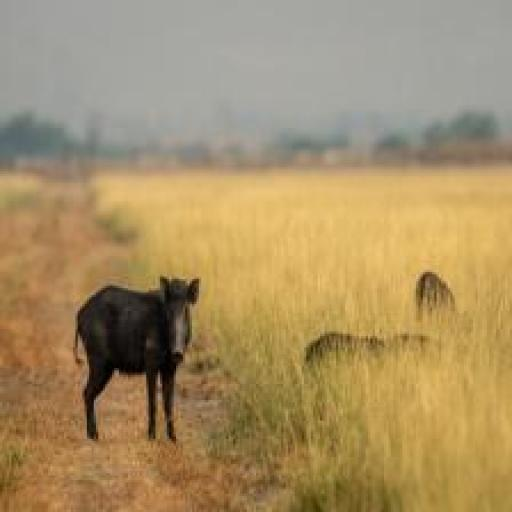Pig: (71, 270, 218, 442)
